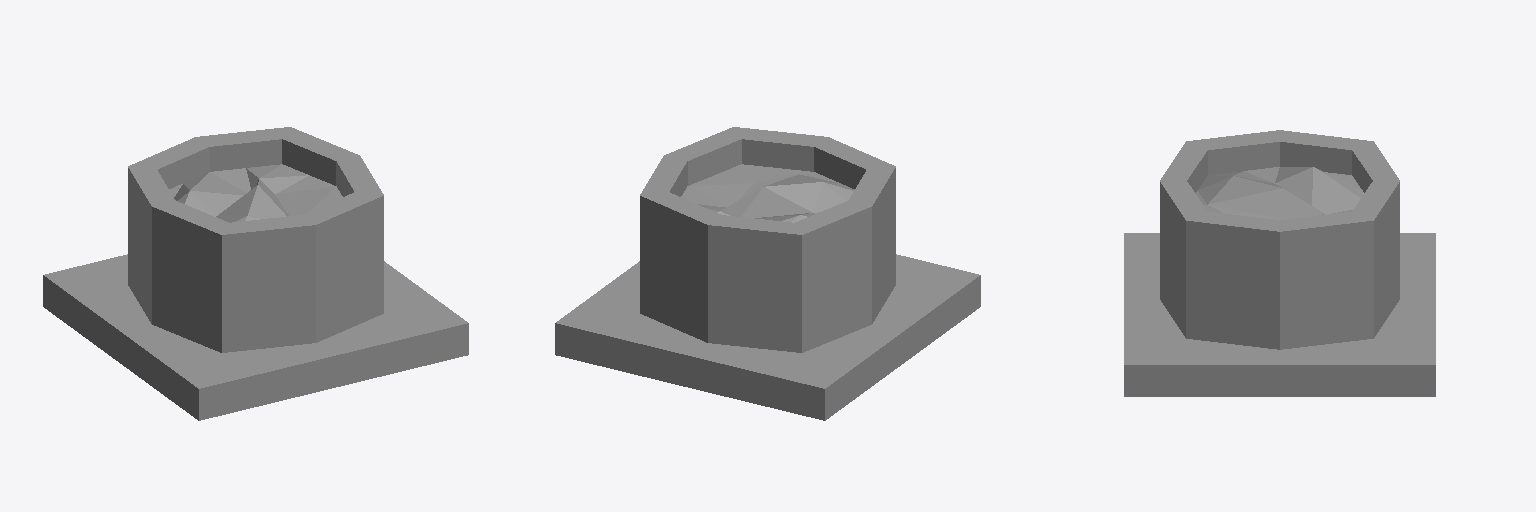
File: coalForge.obj
The picture shows the model from 3 angles: view 1: azimuth 30°, elevation 25°; view 2: azimuth 150°, elevation 25°; view 3: azimuth 270°, elevation 25°; orthographic projection.
Visible parts, largest first — view 1: Cube; view 2: Cube; view 3: Cube.
Part boxes in pixels (left/top/right/bottom): Cube: left=43, top=127, right=468, bottom=420; Cube: left=555, top=127, right=980, bottom=420; Cube: left=1124, top=130, right=1435, bottom=396.
Size of the model in its own units: 1 by 0.5311 by 1.